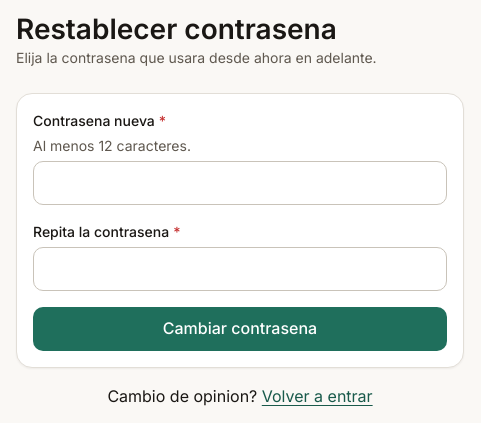
Test: la contrasena queda cambiada › confirma, recuerda que se cerraron las sesiones y deja entrar
In the password field labelled "Contrasena nueva*": (240, 183) x1=33 y1=161 x2=447 y2=205, type "una contrasena larga y normal"
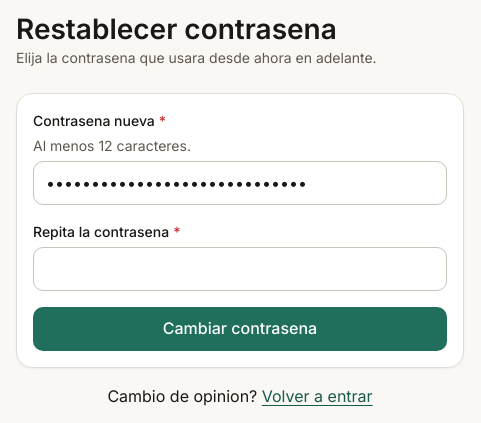
In the password field labelled "Repita la contrasena*": (240, 269) x1=33 y1=247 x2=447 y2=291, type "una contrasena larga y normal"
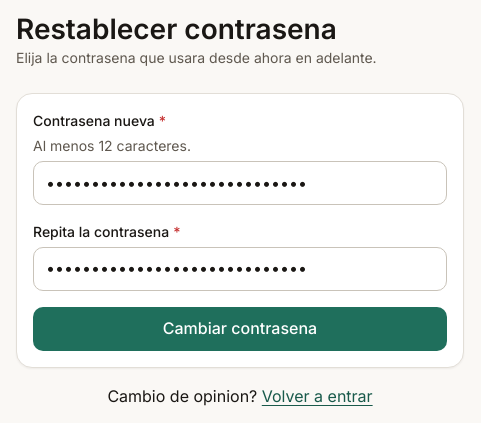
Click the button "Cambiar contrasena": (240, 329) x1=33 y1=307 x2=447 y2=351
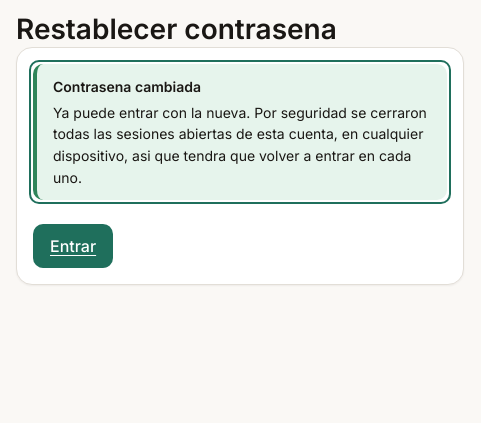
Now the message shows "sesiones", box x1=53 y1=104 x2=427 y2=186
